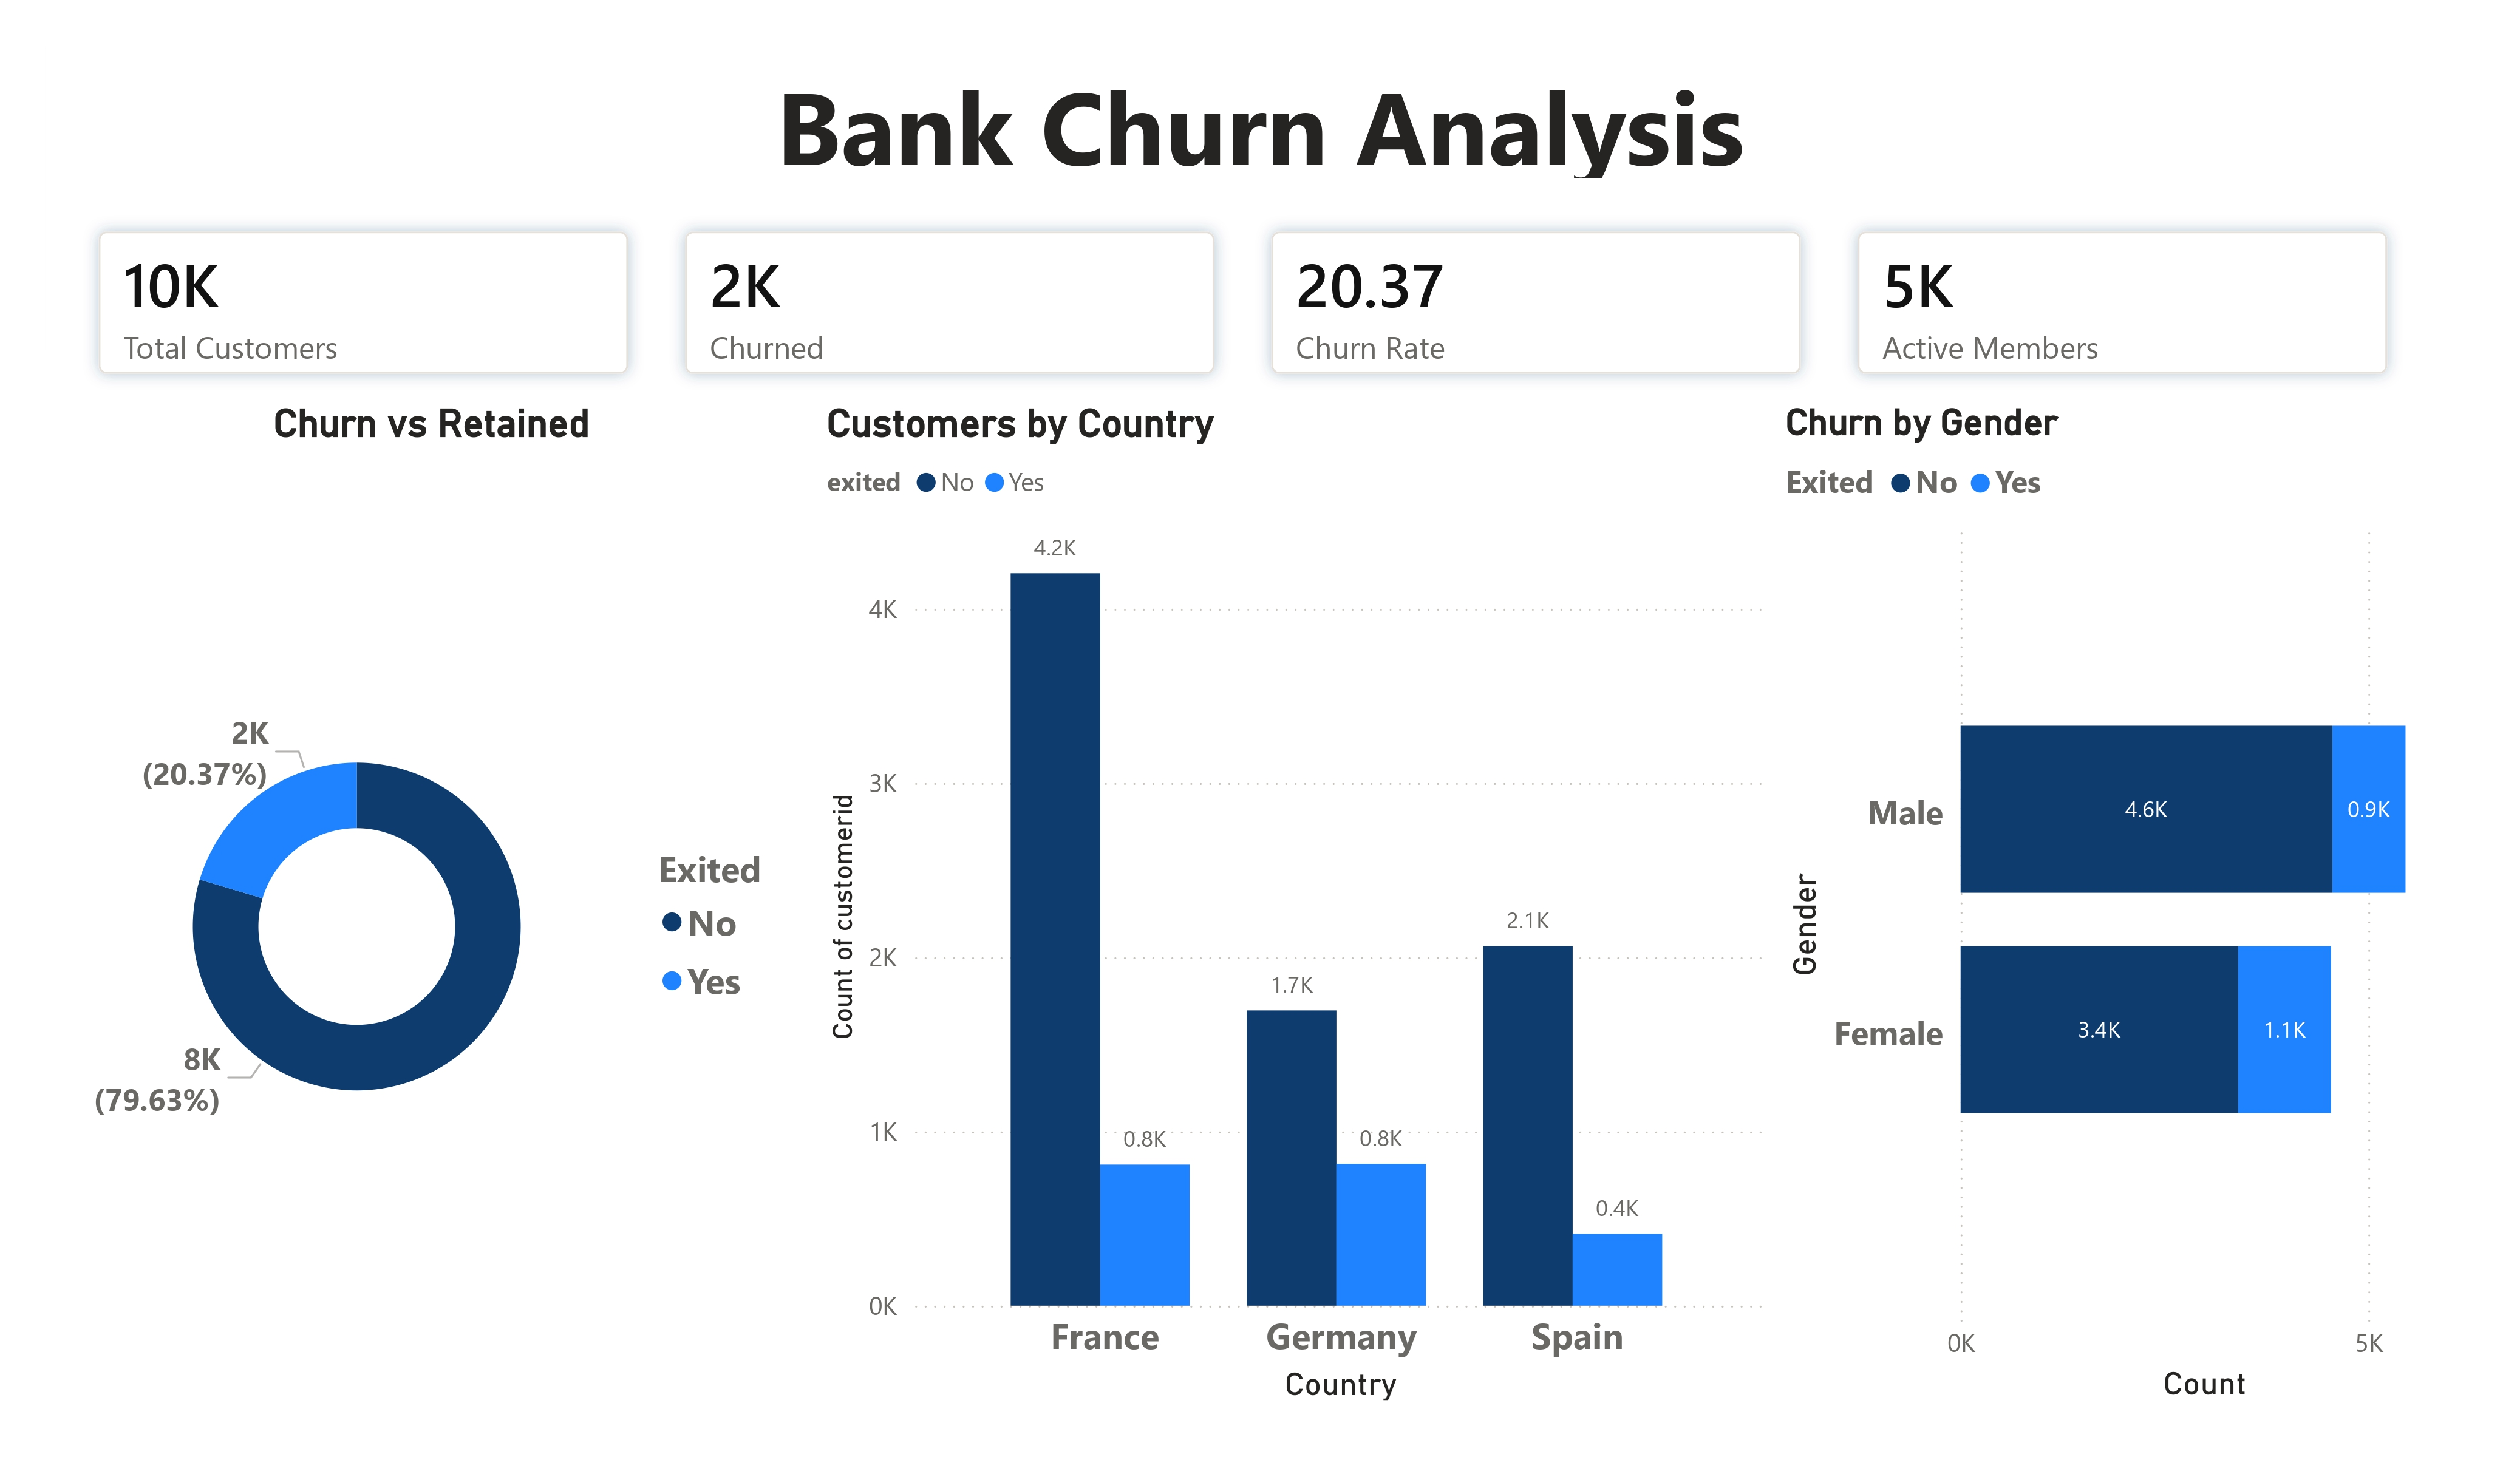

Layout of this report page (visuals, bound fields, positions):
{"tool":"powerbi","page":{"name":"Customer Overview","canvas":[1280,720],"ordinal":0},"visuals":[{"type":"textbox","box":[0,0,1280.3,91.9],"z":0},{"type":"cardVisual","fields":{"Data":["bank_crcard.Total Customers","bank_crcard.Churned","bank_crcard.Churn Rate","bank_crcard.Active Members"]},"box":[0,70,1265.2,131.7],"z":1000},{"type":"donutChart","title":"Churn vs Retained","fields":{"Category":["bank_crcard.exited"],"Y":["bank_crcard.Total Customers"]},"box":[0,186.9,407.5,532.6],"z":2000},{"type":"clusteredColumnChart","title":"Customers by Country","fields":{"Category":["bank_crcard.geography"],"Y":["CountNonNull(bank_crcard.customerid)"],"Series":["bank_crcard.exited"]},"box":[407.5,186.9,504.3,532.6],"z":3000},{"type":"barChart","title":"Churn by Gender","fields":{"Category":["bank_crcard.gender"],"Y":["Count(bank_crcard.customerid)"],"Series":["bank_crcard.exited"]},"box":[911.8,186.9,368.5,532.6],"z":5000}]}

Visuals, with their boxes on the page's 1280x720 design canvas (x1, y1, x2, y2). These are canvas units, not pixel positions in the 2520x1457 screenshot, which may show the page scaled, cropped or inside an application window:
textbox: (x1=0, y1=0, x2=1280, y2=92)
cardVisual - bank_crcard.Total Customers x bank_crcard.Churned: (x1=0, y1=70, x2=1265, y2=202)
"Churn vs Retained" donutChart: (x1=0, y1=187, x2=408, y2=720)
"Customers by Country" clusteredColumnChart: (x1=408, y1=187, x2=912, y2=720)
"Churn by Gender" barChart: (x1=912, y1=187, x2=1280, y2=720)
